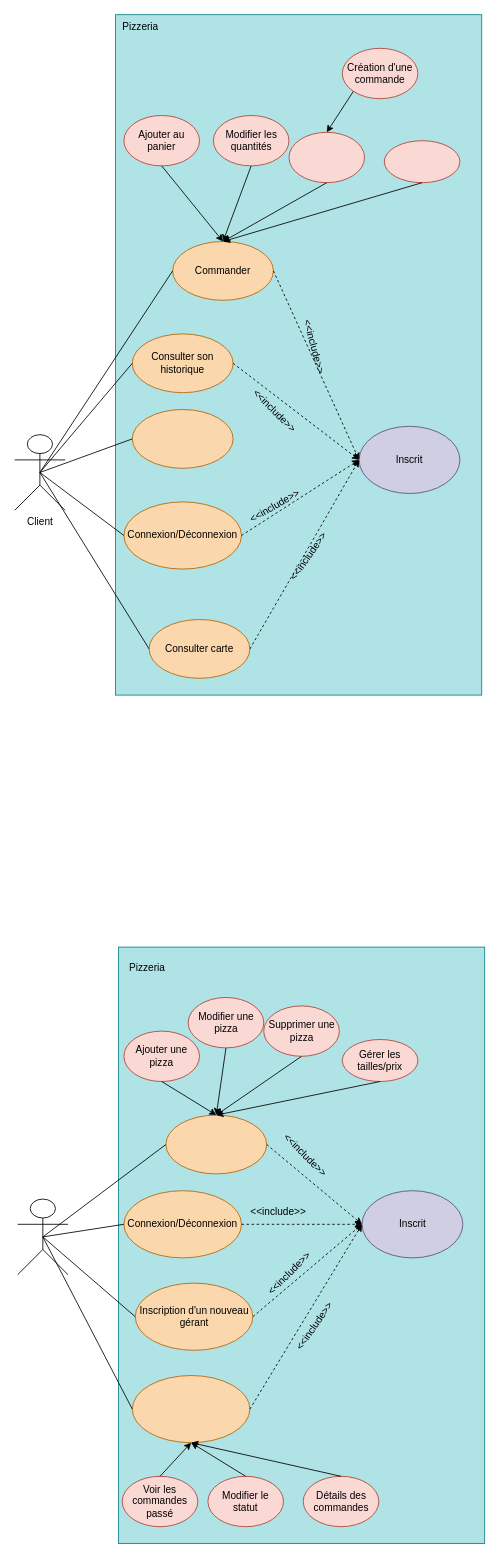
Some shapes in this 500 by 1558 pixel diagram are drawn without their labels. Here are the shapes that lost their labels. From the top down, the box of each, then its label:
(288, 131, 365, 183): Valider le panier
(383, 140, 460, 183): Suivre l'état de sa commande
(131, 409, 233, 468): Inscription
(165, 1114, 267, 1174): Gestion des pizzas
(17, 1198, 68, 1275): Gérant
(131, 1375, 250, 1443): Gestion des commandes
